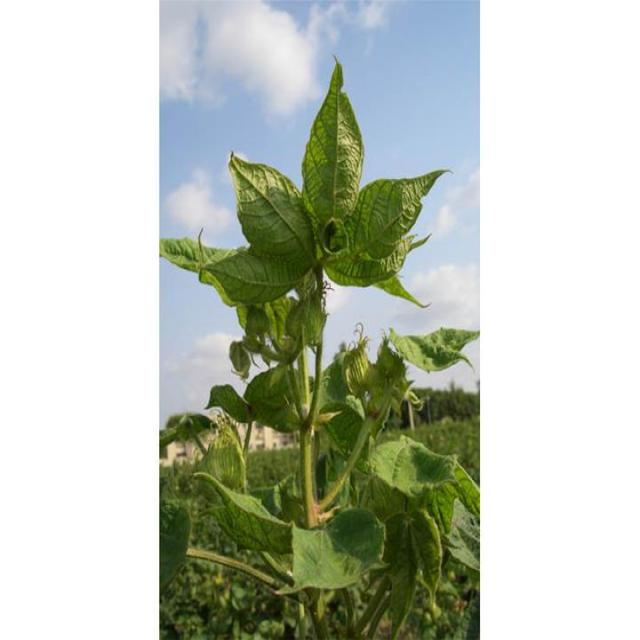Leaf Curl Virus: (228, 92, 446, 563)
